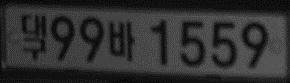1: (146, 19, 175, 65)
5: (211, 21, 237, 69), (180, 21, 205, 67)
9: (241, 22, 270, 70), (79, 16, 105, 63), (50, 15, 76, 60)
대구_V: (20, 13, 47, 60)
바: (108, 21, 136, 63)
